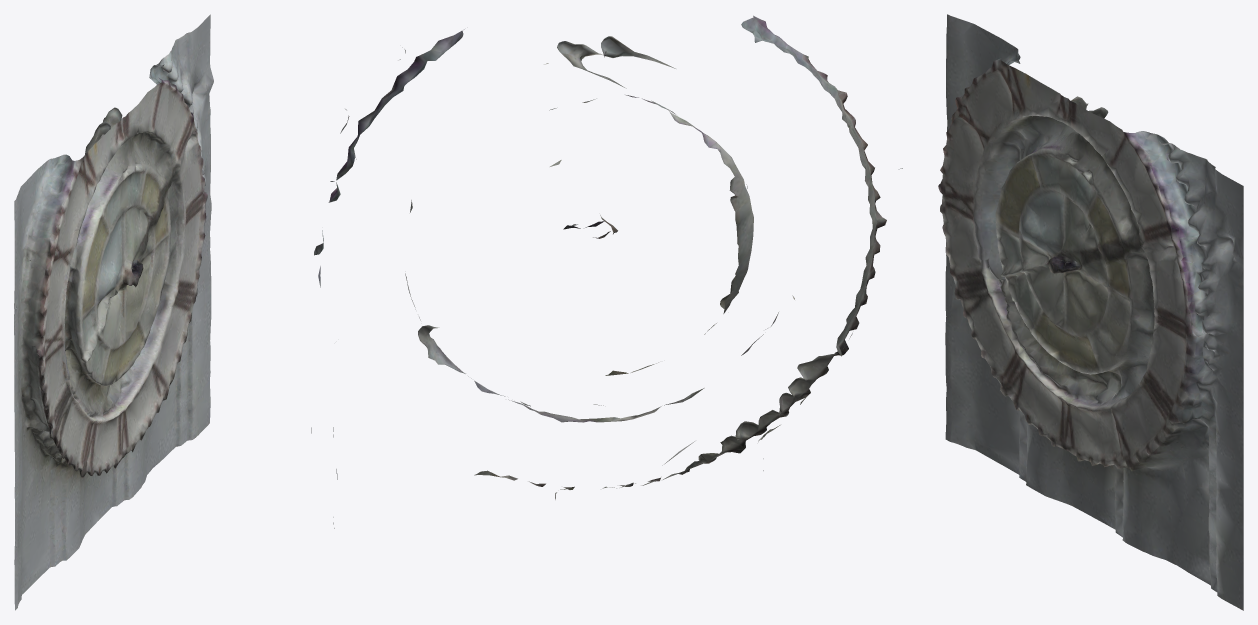
3 renders of one model, left to right at view 1: azimuth 30°, elevation 25°; view 2: azimuth 150°, elevation 25°; view 3: azimuth 270°, elevation 25°, orthographic. The views are drawn at different scales.
Bounding box in the file's own units: 6.6 × 7.53 × 4.9.
1 material, 1 textured.
